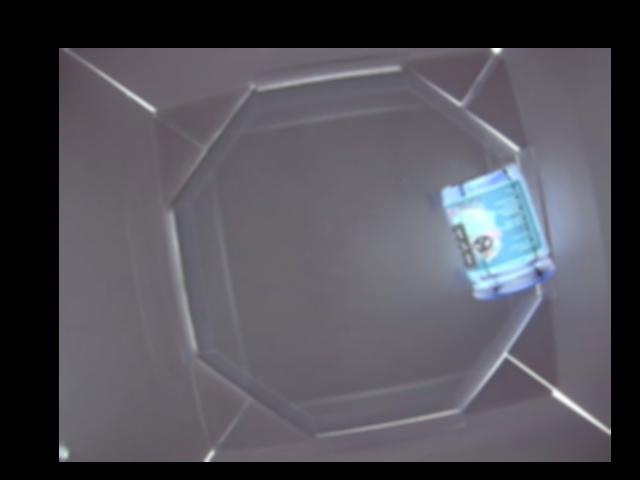Bottle: (441, 164, 559, 297)
